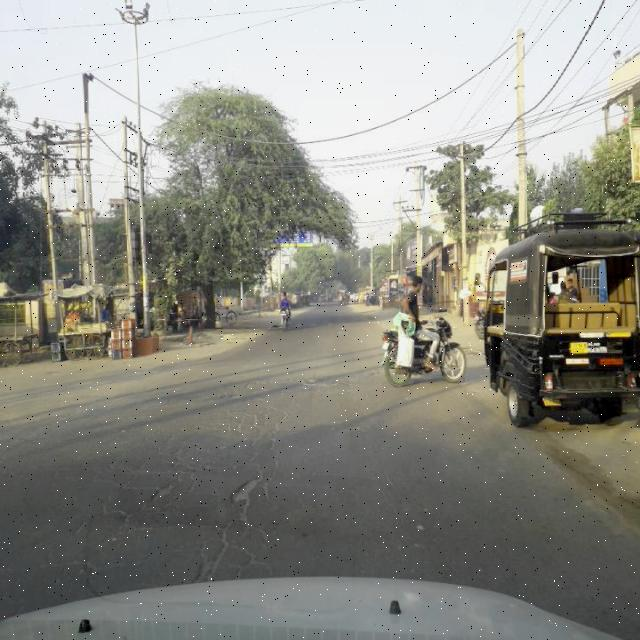D20: (86, 353, 286, 578)
D40: (226, 471, 266, 509)
